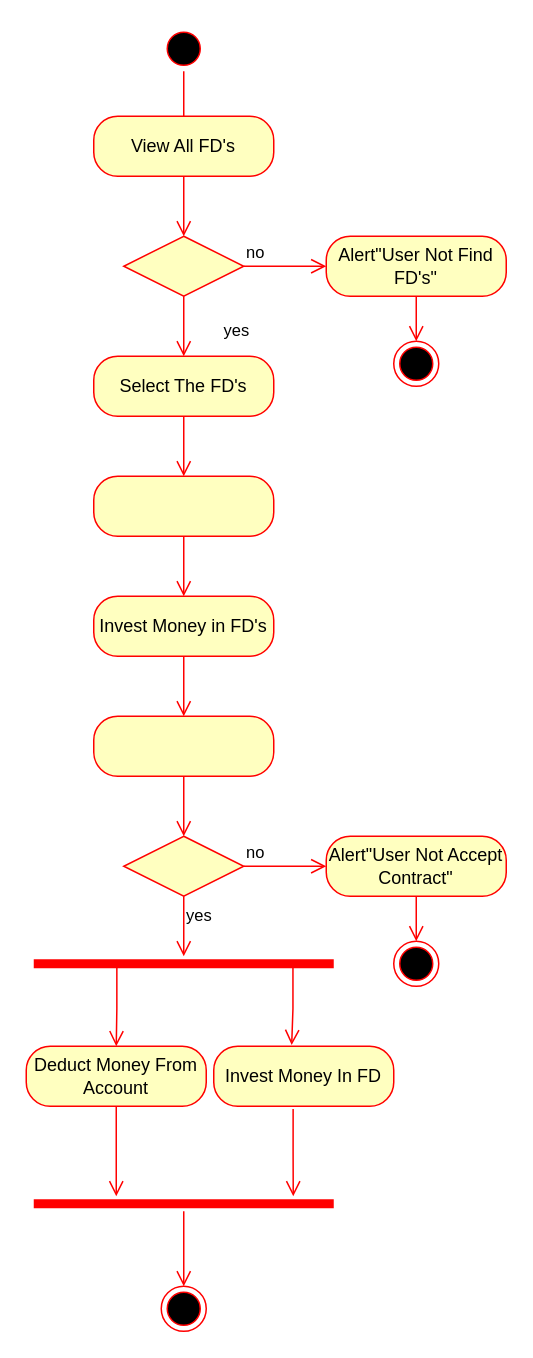
Image size: 533x1358. Some labels were removed from this diagram. The shapes that lost their labels are listed below. From the top down, each one's box as (x1, y1, x2, y2) in pixels, then its label:
(92, 475, 274, 536): See The Details Of the FD's
(92, 715, 274, 776): Show Contract
